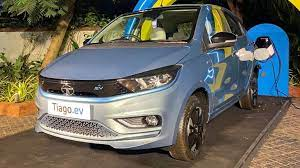Tiago: (31, 3, 260, 165)
